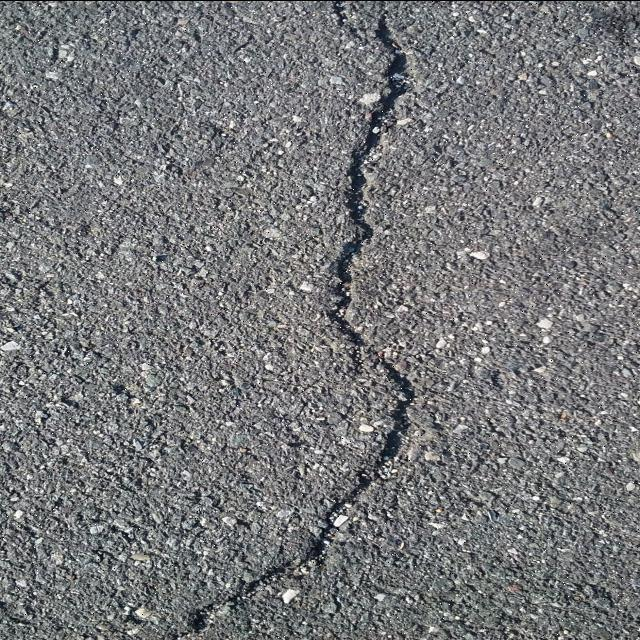Crack: (183, 0, 418, 640)
